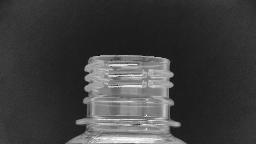No Cap: (70, 50, 186, 132)
